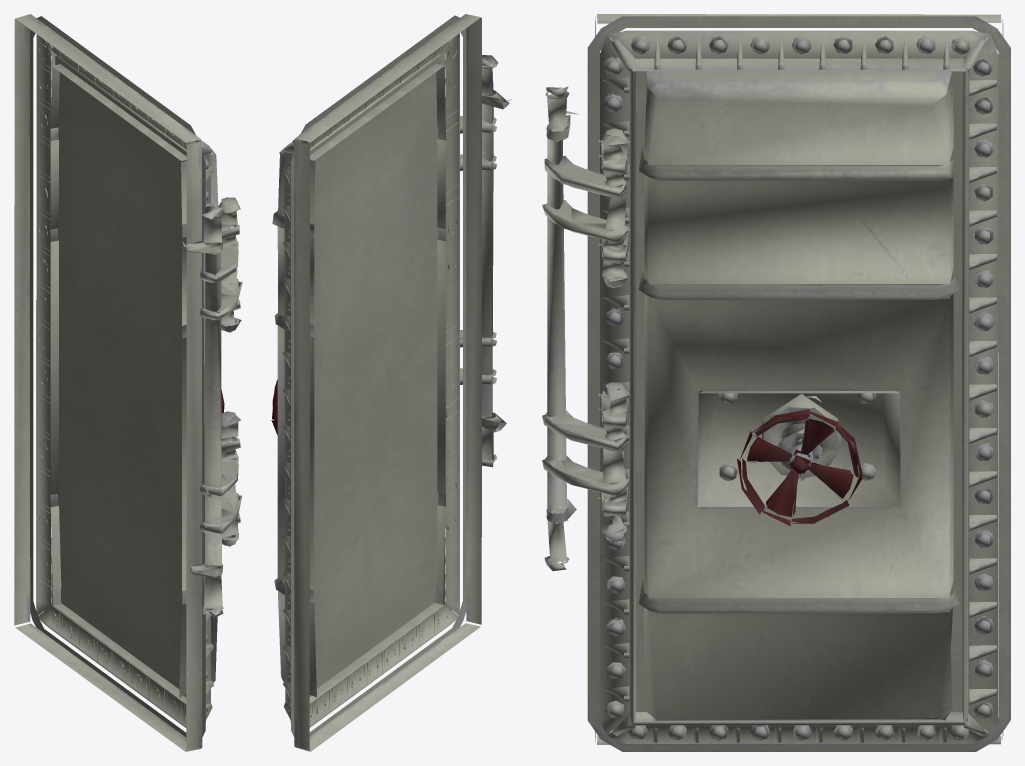
File: vault_door.glb
3 renders of one model, left to right at view 1: azimuth 30°, elevation 25°; view 2: azimuth 150°, elevation 25°; view 3: azimuth 270°, elevation 25°, orthographic. The views are drawn at different scales.
Parts seen in each view (by area): view 1: Door_Door_0; view 2: Door_Door_0; view 3: Door_Door_0.
Boxes of the visible parts, <box> form: Door_Door_0: <box>14,14,242,751</box>; Door_Door_0: <box>271,14,512,751</box>; Door_Door_0: <box>542,14,1010,751</box>.
Size of the model in its own units: 59.05 by 300 by 173.
1 material, 1 textured.
